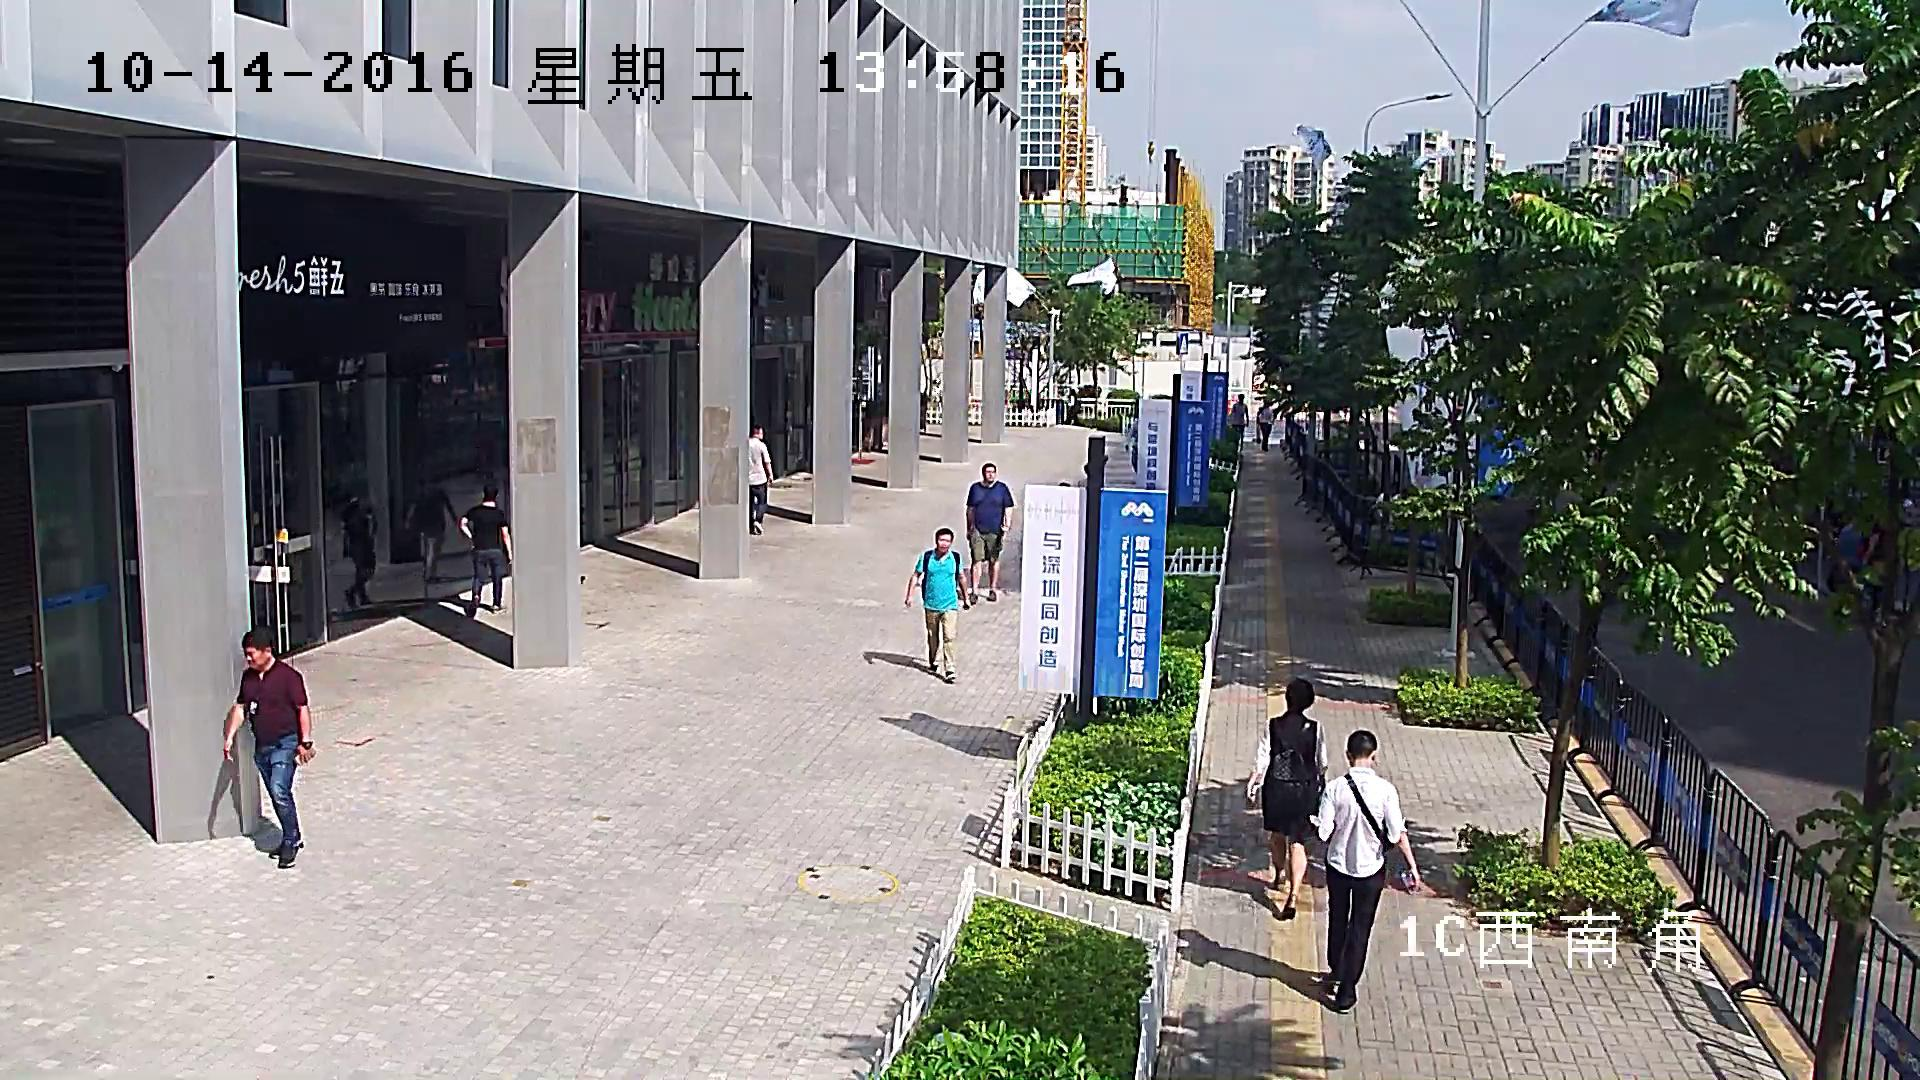person: (1310, 729, 1420, 1013), (224, 626, 315, 866), (1246, 679, 1326, 916), (905, 527, 969, 681), (459, 483, 511, 615), (966, 463, 1013, 604), (412, 473, 459, 583), (342, 478, 376, 606), (748, 424, 773, 534), (1231, 394, 1249, 450), (1124, 421, 1137, 473), (1259, 407, 1273, 450)
